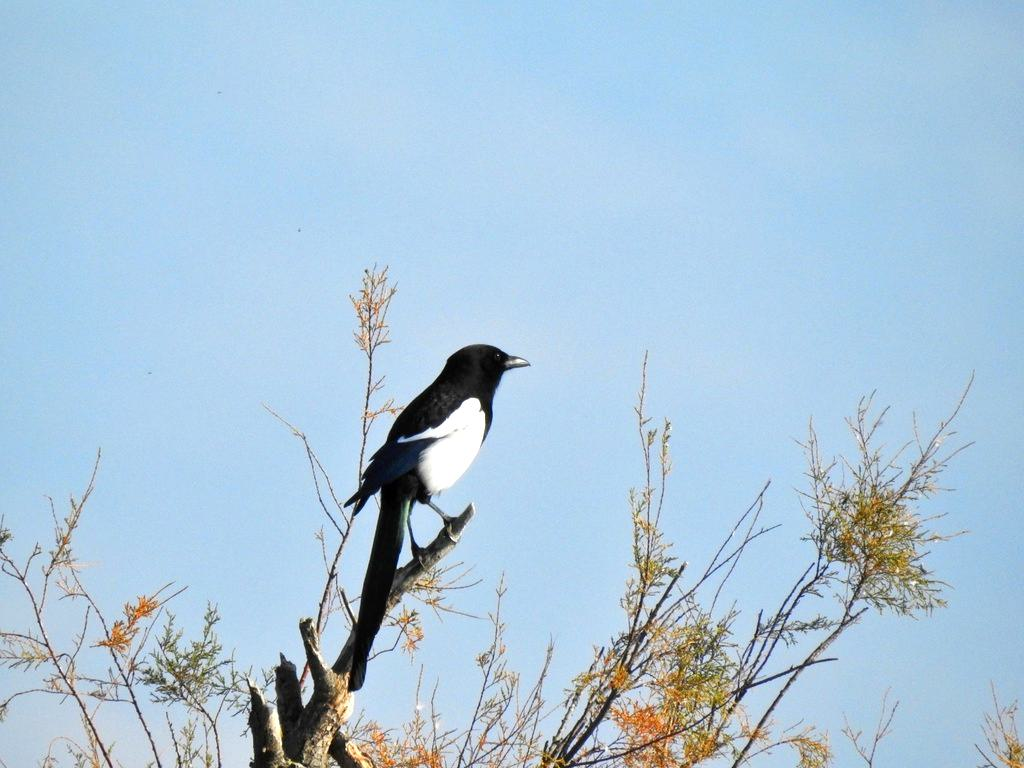PicaPica: (343, 343, 530, 574)
